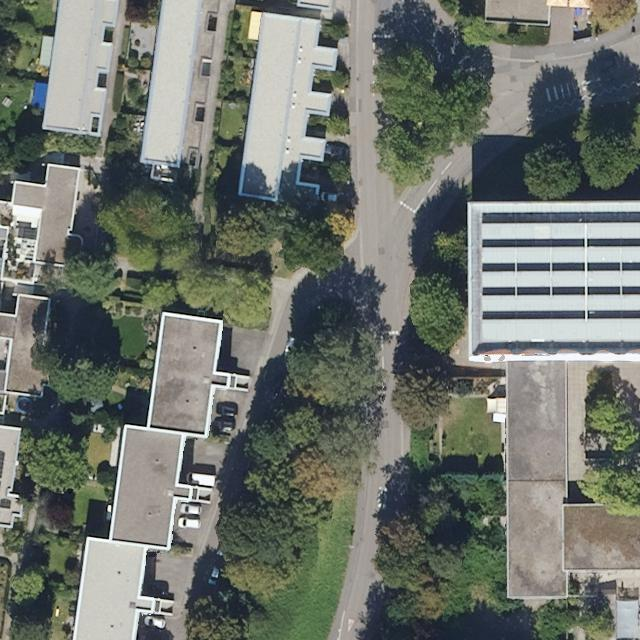PV: (480, 207, 639, 325)
